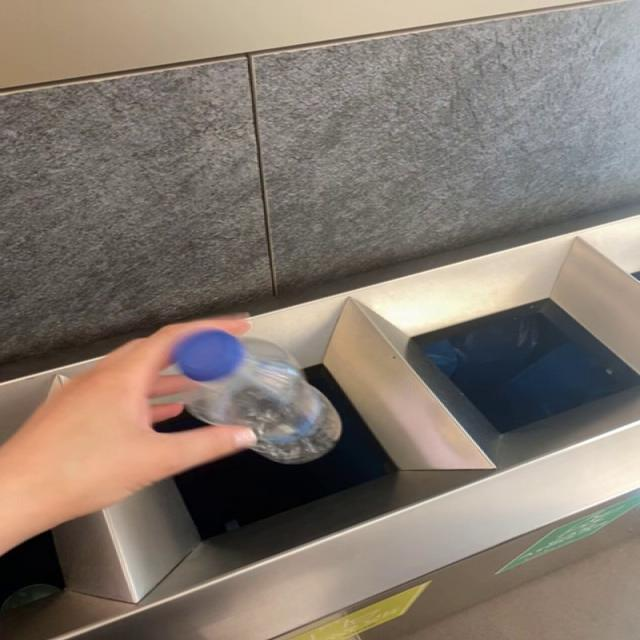Plastic: (151, 330, 341, 464)
